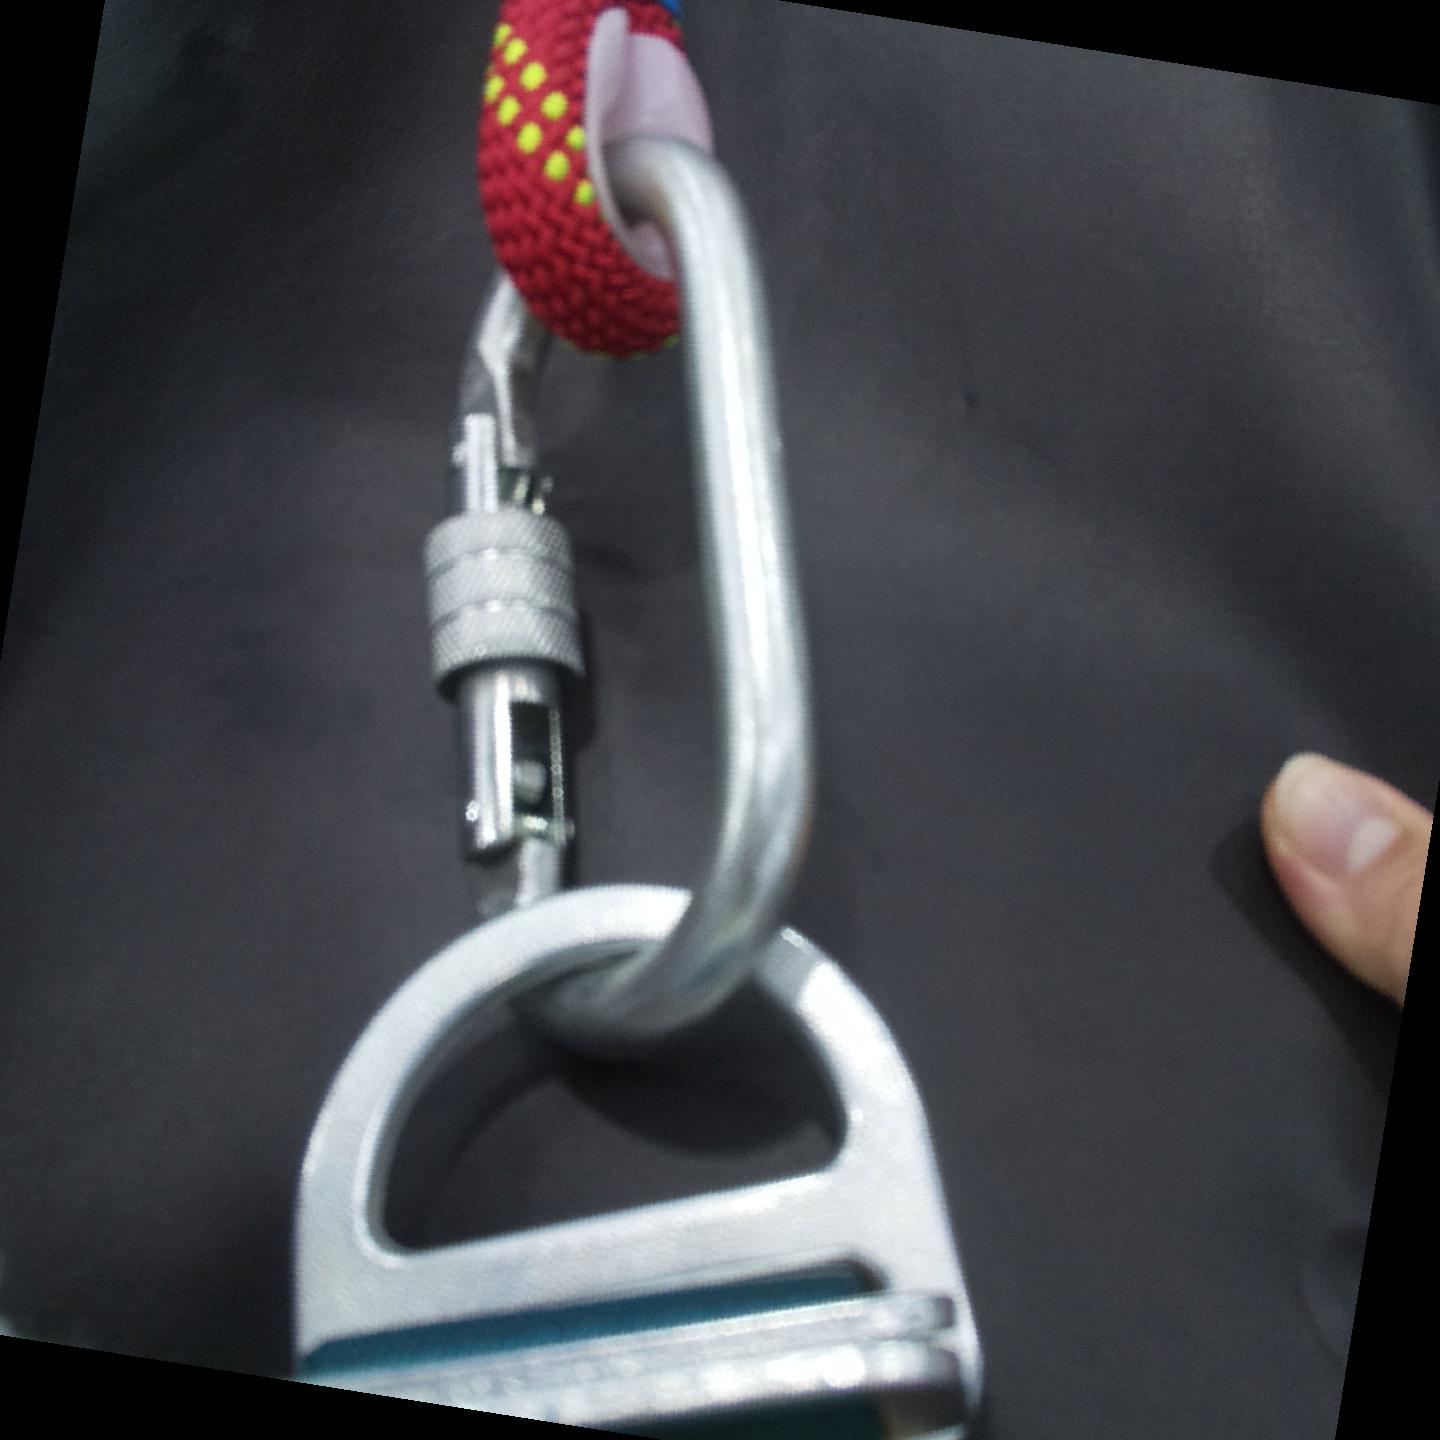SUCCESS: (236, 518, 972, 1319)
